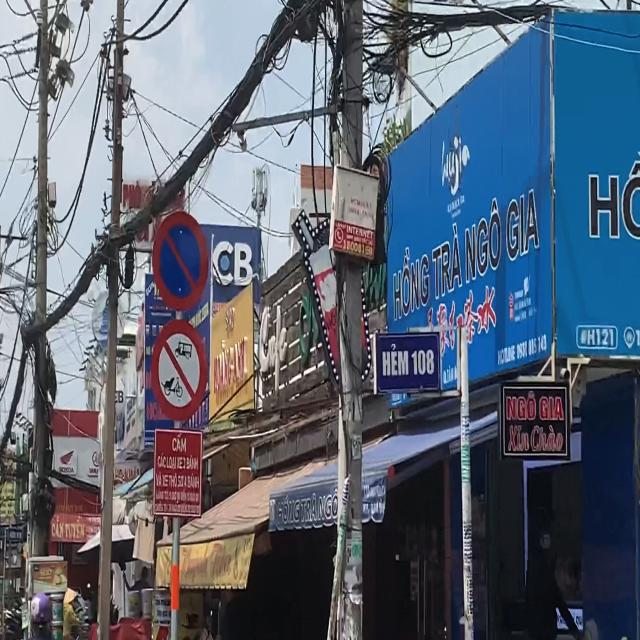Cam do: (153, 209, 208, 311)
